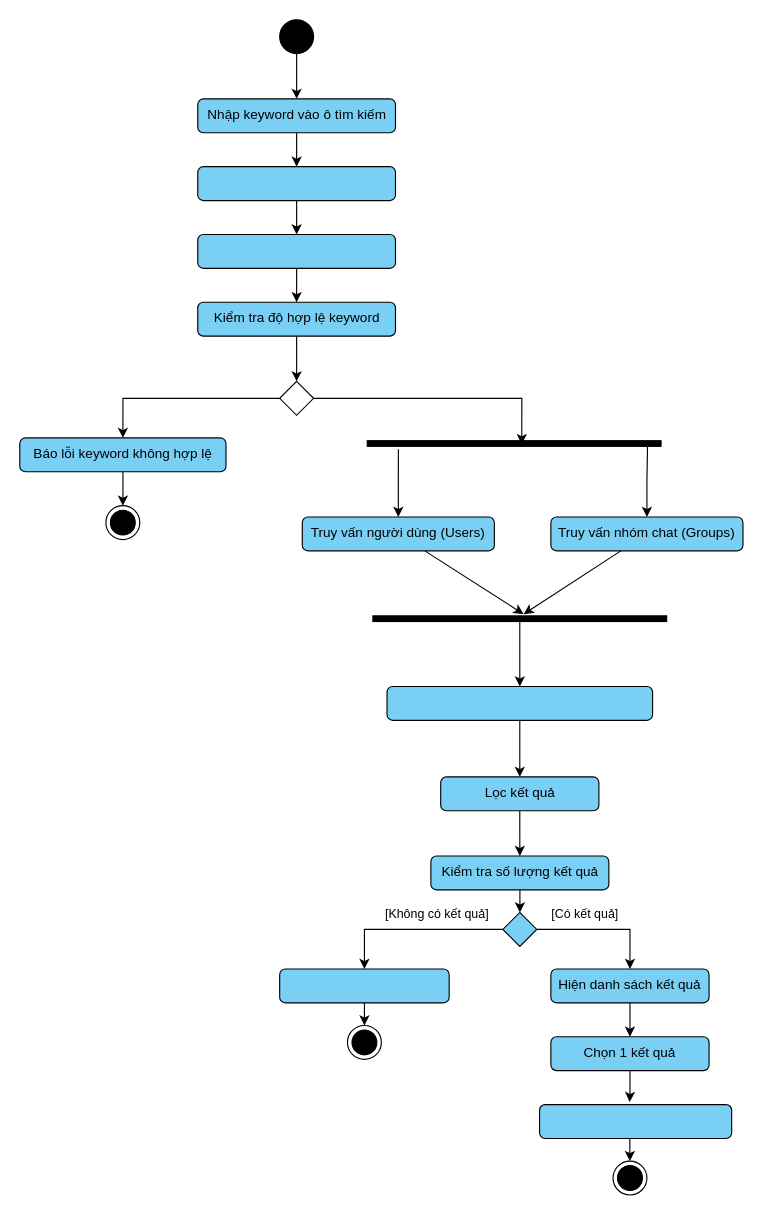
Image size: 763x1215. Some labels were removed from this diagram. The centre of each missing label's shape, as x and y in pixels:
Chuẩn hoá keyword: point (296, 250)
Hiện trang cá nhân / nhóm chat: point (635, 1120)
Nhấn Enter: point (296, 183)
Thông báo không tìm thấy: point (364, 985)
Trả về tập kết quả Users & Groups: point (519, 702)
